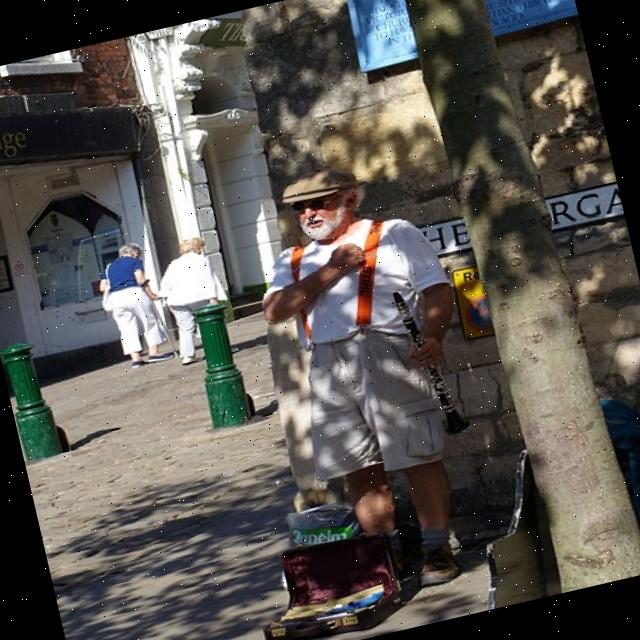clarinet: (388, 278, 480, 445)
